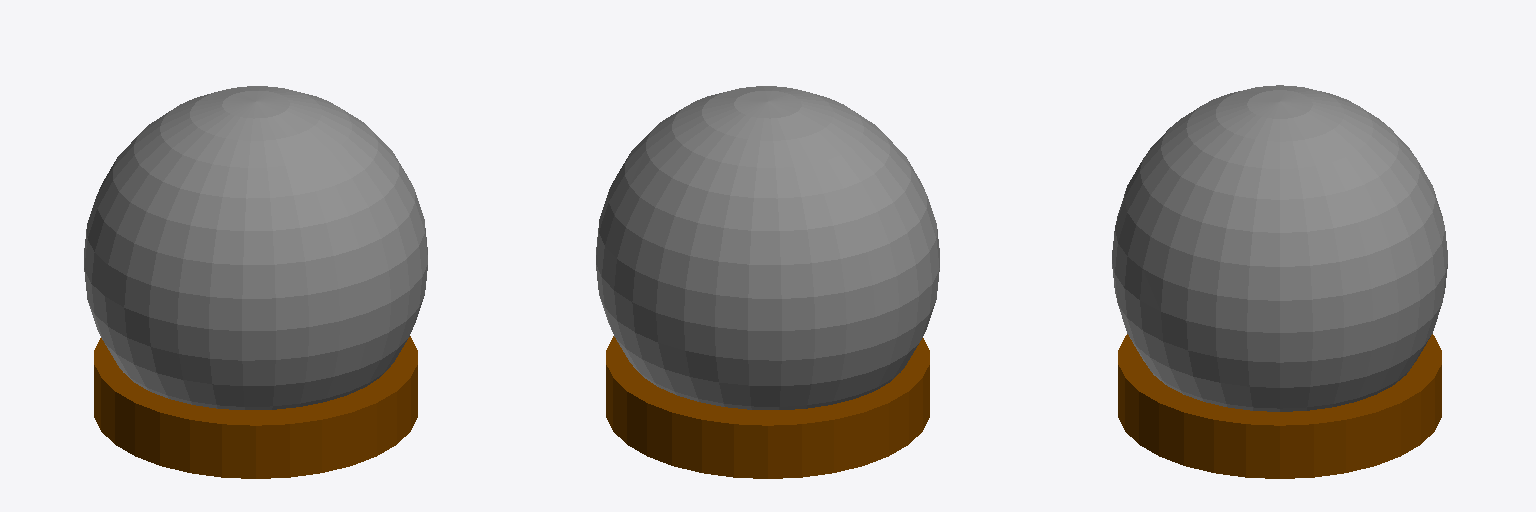
The model's file is fullDome.obj.
3 renders of one model, left to right at view 1: azimuth 30°, elevation 25°; view 2: azimuth 150°, elevation 25°; view 3: azimuth 270°, elevation 25°, orthographic.
Parts seen in each view (by area): view 1: Dome, base; view 2: Dome, base; view 3: Dome, base.
Part boxes in pixels (left/top/right/bottom): Dome: left=84, top=86, right=427, bottom=409; base: left=94, top=336, right=417, bottom=478; Dome: left=596, top=86, right=939, bottom=409; base: left=606, top=336, right=929, bottom=478; Dome: left=1112, top=85, right=1447, bottom=411; base: left=1118, top=334, right=1441, bottom=478.
Bounding box in the file's own units: 123 × 120 × 119.